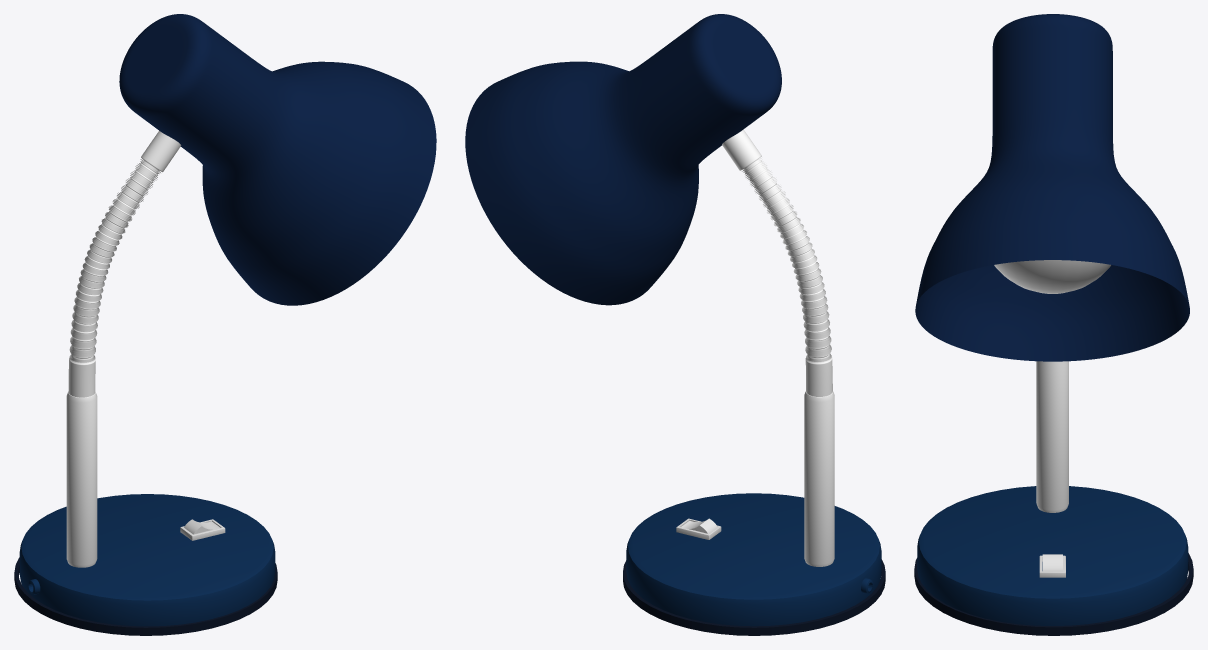
The model's file is Lamp.fbx.
3 renders of one model, left to right at view 1: azimuth 30°, elevation 25°; view 2: azimuth 150°, elevation 25°; view 3: azimuth 270°, elevation 25°, orthographic. The views are drawn at different scales.
Visible parts, largest first — view 1: Cylinder005, Cylinder001, Hose001, Cylinder007, Tube001; view 2: Cylinder005, Cylinder001, Hose001, Cylinder007, Tube001; view 3: Cylinder005, Cylinder001, Cylinder007, Tube001, Sphere001.
Boxes of the visible parts, left/top/right/bottom form: Cylinder005: left=119, top=14, right=436, bottom=305; Cylinder001: left=19, top=494, right=275, bottom=626; Hose001: left=68, top=130, right=181, bottom=397; Cylinder007: left=66, top=391, right=97, bottom=567; Tube001: left=14, top=557, right=277, bottom=635; Cylinder005: left=465, top=14, right=781, bottom=305; Cylinder001: left=626, top=493, right=881, bottom=626; Hose001: left=722, top=129, right=832, bottom=396; Cylinder007: left=804, top=391, right=834, bottom=566; Tube001: left=623, top=559, right=885, bottom=635; Cylinder005: left=915, top=14, right=1189, bottom=361; Cylinder001: left=917, top=486, right=1188, bottom=625; Cylinder007: left=1036, top=361, right=1068, bottom=512; Tube001: left=914, top=553, right=1193, bottom=635; Sphere001: left=994, top=260, right=1110, bottom=293.
Size of the model in its own units: 34.52 by 47.62 by 20.6.
